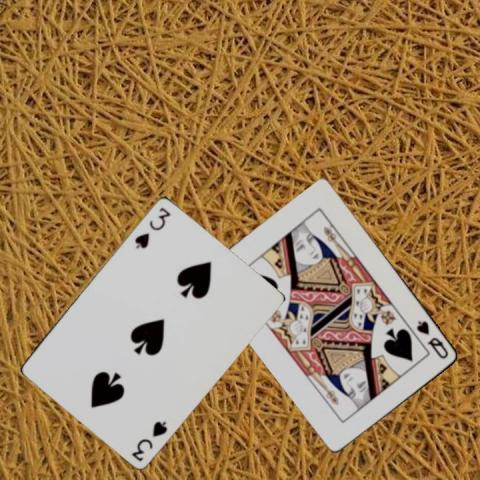3s: (131, 204, 172, 250), (128, 417, 168, 462)
Qs: (414, 317, 451, 361)
